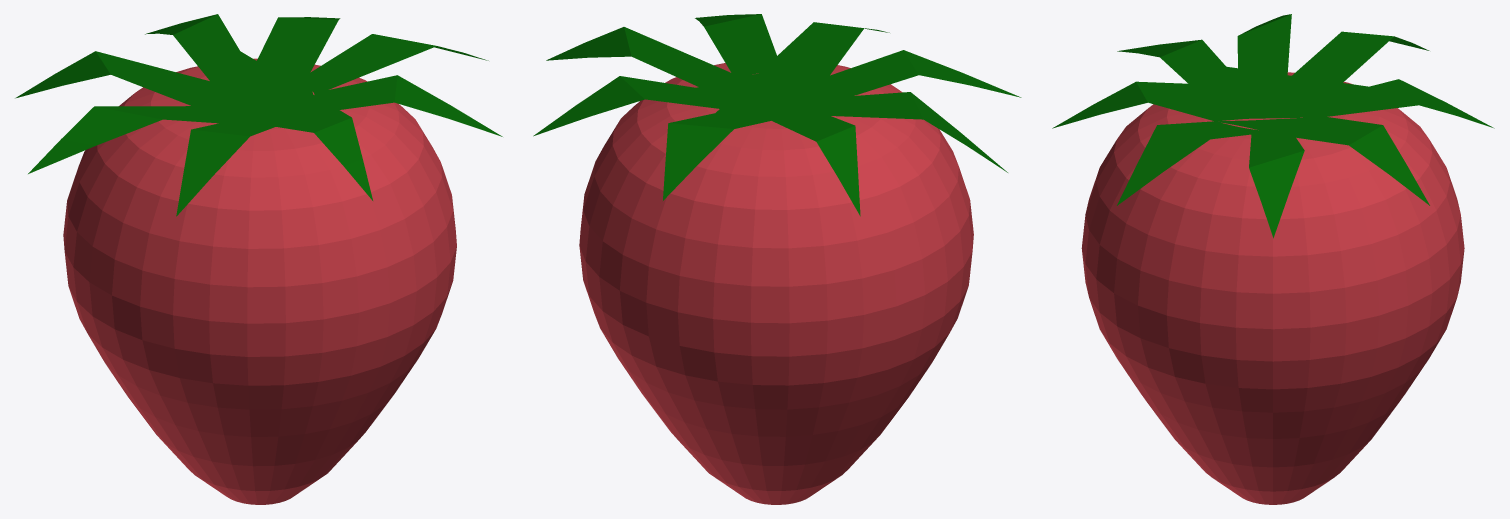
Rendered from strawberry-lowpoly.fbx.
3 views of the same model, side by side, from view 1: azimuth 30°, elevation 25°; view 2: azimuth 150°, elevation 25°; view 3: azimuth 270°, elevation 25° (orthographic). The views are drawn at different scales.
Visible parts, largest first — view 1: Sphere, Circle; view 2: Sphere, Circle; view 3: Sphere, Circle.
Boxes of the visible parts, bbox=[...] form: Sphere: bbox=[63, 58, 456, 504]; Circle: bbox=[15, 14, 502, 216]; Sphere: bbox=[579, 63, 973, 504]; Circle: bbox=[533, 14, 1021, 216]; Sphere: bbox=[1081, 72, 1464, 504]; Circle: bbox=[1052, 14, 1494, 238].
Bounding box in the file's own units: 271 × 240 × 232.
